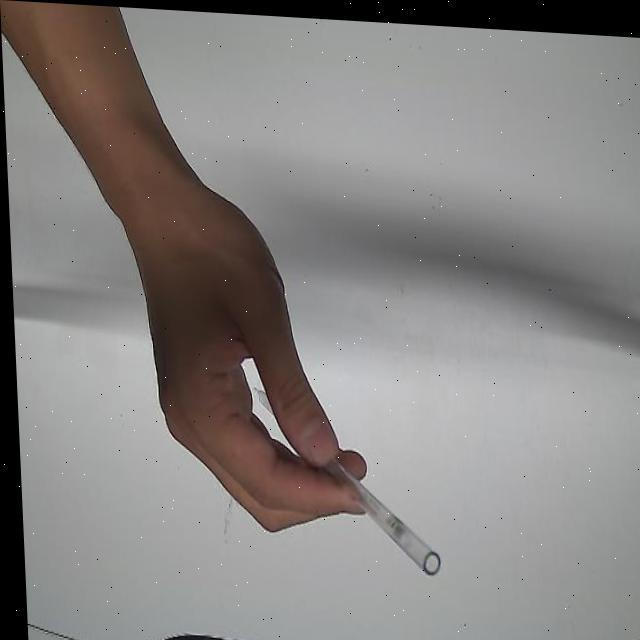Serelogical Pipet 2 mL: (243, 380, 446, 582)
